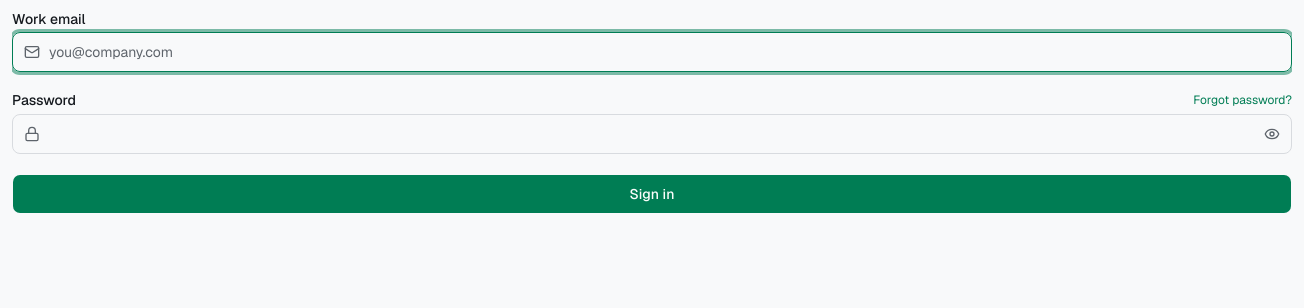
LoginForm › shows the backend error and marks fields invalid
Type "a@b.co" into the field labelled "Work email" at x=652, y=52, box [12, 32, 1292, 72]
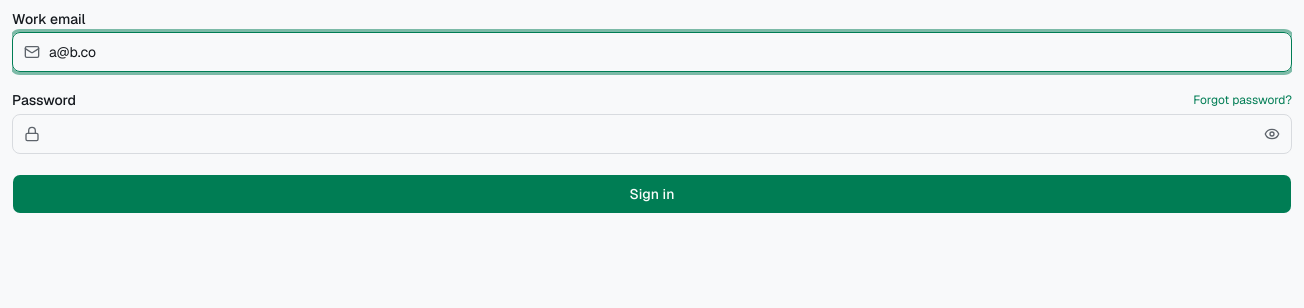
Type "wrong" into the password field labelled "Password" at x=652, y=134, box [12, 114, 1292, 154]
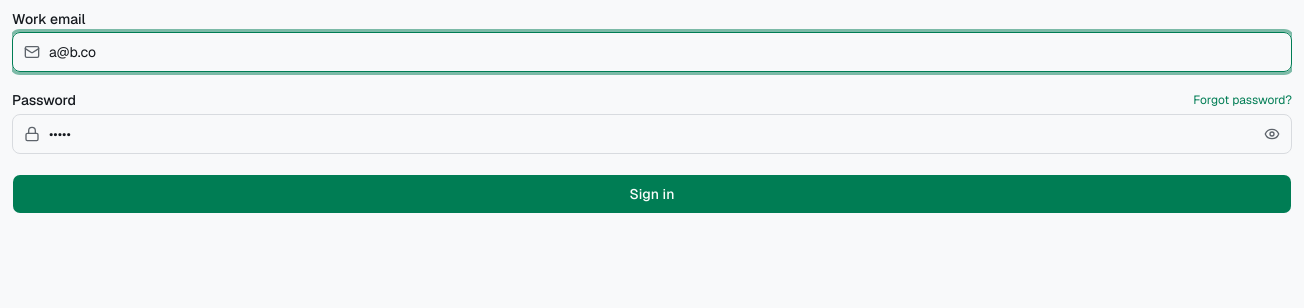
Click the button "Sign in" at x=652, y=194, box [12, 174, 1292, 214]
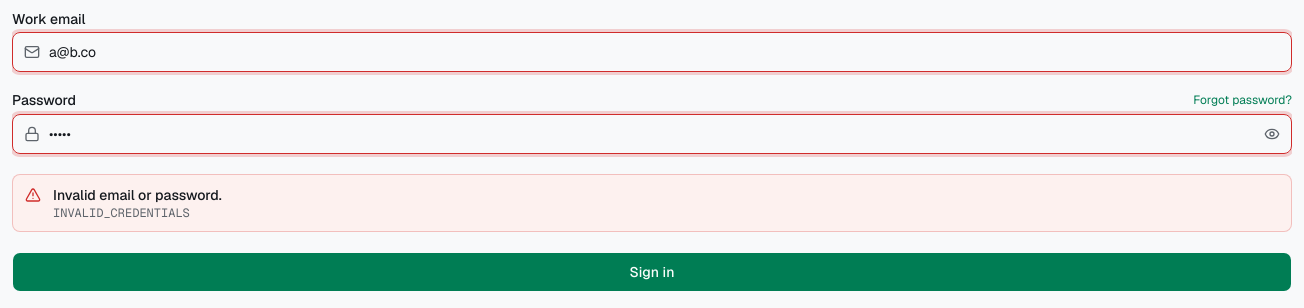
Now the message shows "Invalid email or password.", box [53, 186, 222, 204]
